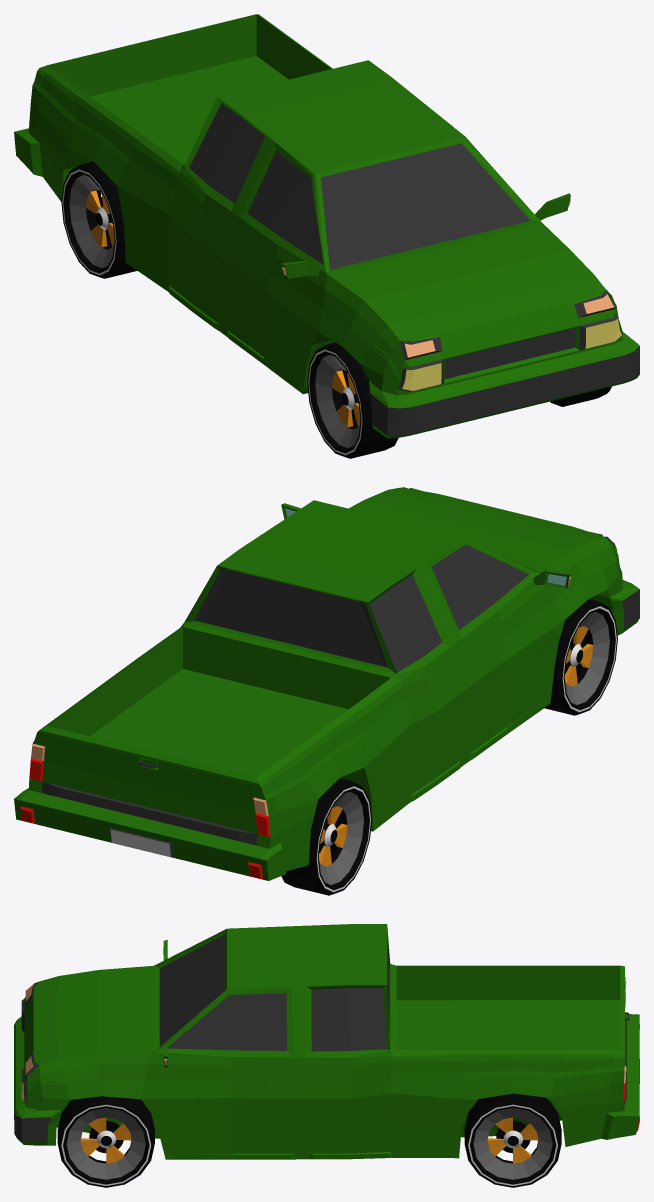
File: Пикапчик.fbx
The picture shows the model from 3 angles, top to bottom: view 1: azimuth 30°, elevation 25°; view 2: azimuth 150°, elevation 25°; view 3: azimuth 270°, elevation 25°; orthographic projection. The views are drawn at different scales.
Parts seen in each view (by area): view 1: Cube.001, FR.001, RR; view 2: Cube.001, RR, FR.001; view 3: Cube.001, RL, FL.001.
Boxes of the visible parts, x1,y1,x2,y2 form: Cube.001: (14,14,639,438); FR.001: (307,342,398,458); RR: (61,161,137,278); Cube.001: (14,487,639,880); RR: (281,778,371,895); FR.001: (544,599,617,715); Cube.001: (14,924,639,1159); RL: (464,1093,561,1187); FL.001: (57,1096,154,1187).
Bounding box in the file's own units: 501 × 368 × 1138.
